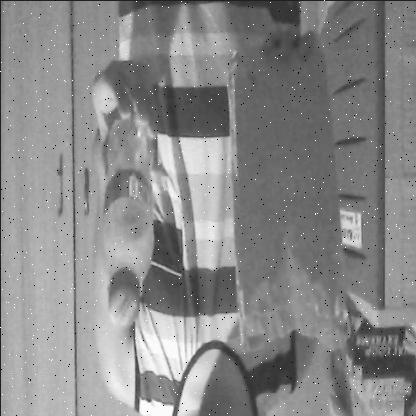Plastic Bottle: (100, 101, 160, 345)
